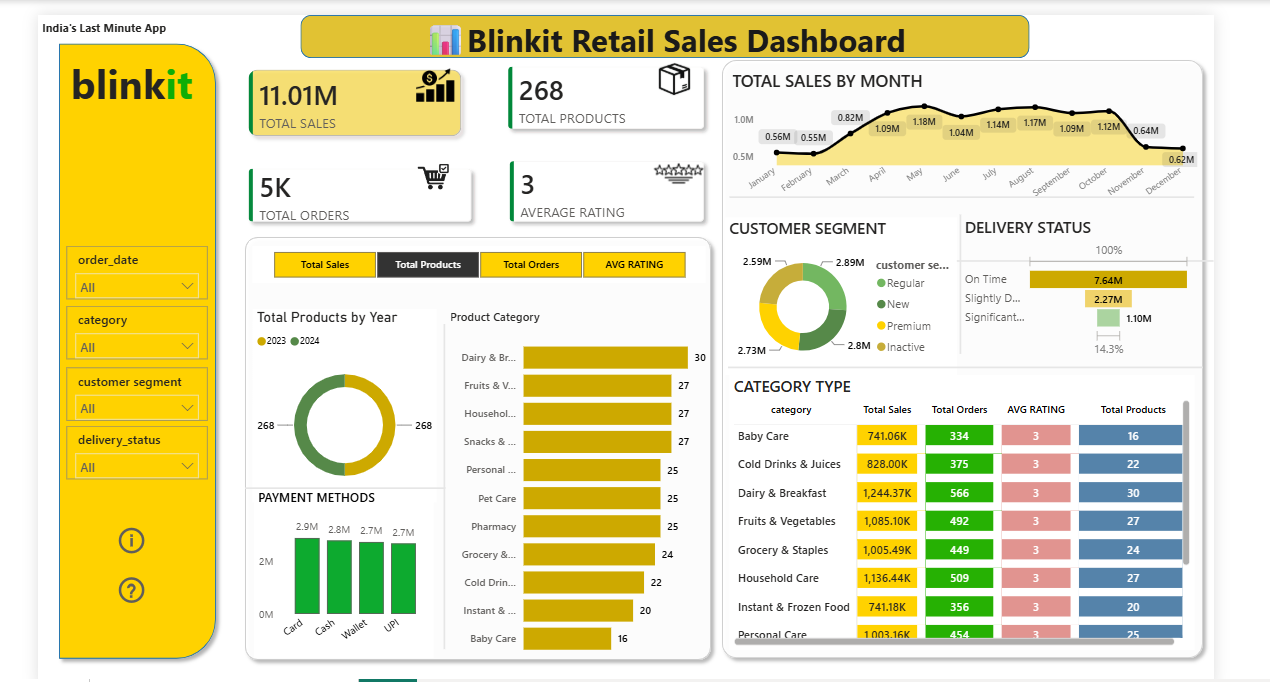

This screenshot's page, from the dashboard's own definition file:
{"tool":"powerbi","page":{"name":"Dashboard","canvas":[1400,800],"ordinal":0},"visuals":[{"type":"shape","box":[16.5,24.8,204.6,750.3],"z":0},{"type":"textbox","box":[33.1,43.4,159.2,80.6],"z":1000},{"type":"textbox","box":[0,0,235.1,655.7],"z":2000},{"type":"cardVisual","fields":{"Data":["blinkit_orders.Total Sales"]},"box":[220.9,35.3,311.1,137.9],"z":3000},{"type":"cardVisual","fields":{"Data":["blinkit_orders.Orders"]},"box":[220.9,153.8,323.4,121.9],"z":4000},{"type":"cardVisual","fields":{"Data":["blinkit_products.Total Products"]},"box":[530.2,31.8,291.6,132.6],"z":5000},{"type":"cardVisual","fields":{"Data":["blinkit_customer_feedback.Average Rating"]},"box":[532,144.9,289.8,130.8],"z":6000},{"type":"image","box":[440.1,51.3,67.2,63.6],"z":7000},{"type":"image","box":[715.8,152,93.7,76],"z":8000},{"type":"image","box":[721.1,51.3,79.5,53],"z":9000},{"type":"image","box":[404.7,152,100.7,72.5],"z":10000},{"type":"shape","box":[236.8,254.5,572.6,521.4],"z":11000},{"type":"donutChart","fields":{"Y":["blinkit_products.Total Products"],"Category":["blinkit_orders.order_date.Variation.Date Hierarchy.Year"]},"box":[254.5,349.9,219.2,229.8],"z":12000},{"type":"slicer","fields":{"Values":["metric.metric"]},"box":[254.5,275.7,539,44.2],"z":13000},{"type":"shape","box":[245.7,553.2,238.6,19.4],"z":14000},{"type":"shape","box":[473.6,367.6,21.2,387],"z":15000},{"type":"barChart","title":"Product Category","fields":{"Y":["blinkit_products.Total Products"],"Category":["blinkit_products.category"]},"box":[486,349.9,314.6,424.2],"z":16000},{"type":"shape","box":[805.9,44.2,590.3,729.9],"z":17000},{"type":"lineChart","title":"TOTAL SALES BY MONTH","fields":{"Y":["blinkit_orders.Total Sales"],"Category":["blinkit_orders.order_date.Variation.Date Hierarchy.Month"]},"box":[821.8,63.6,563.8,164.4],"z":18000},{"type":"shape","box":[821.8,288.1,577.9,10.6],"z":19000},{"type":"donutChart","title":"CUSTOMER SEGMENT","fields":{"Category":["blinkit_customers.customer_segment"],"Y":["blinkit_orders.Total Sales"]},"box":[818.3,240.4,275.7,187.3],"z":20000},{"type":"shape","box":[1090.5,236.8,14.1,166.1],"z":21000},{"type":"funnel","title":"DELIVERY STATUS","fields":{"Y":["blinkit_orders.Total Sales"],"Category":["blinkit_delivery_performance.delivery_status"]},"box":[1097.5,238.6,279.2,171.4],"z":22000},{"type":"shape","box":[821.8,410,565.6,17.7],"z":23000},{"type":"pivotTable","title":"CATEGORY TYPE","fields":{"Rows":["blinkit_products.category"],"Values":["blinkit_orders.Total Sales","blinkit_orders.Total Orders","blinkit_customer_feedback.AVG RATING","blinkit_products.Total Products"]},"box":[823.6,427.7,553.2,327],"z":24000},{"type":"shape","box":[823.6,205,553.2,23],"z":25000},{"type":"slicer","fields":{"Values":["blinkit_customers.customer_segment"]},"box":[33.6,418.9,167.9,63.6],"z":26000},{"type":"slicer","fields":{"Values":["blinkit_delivery_performance.delivery_status"]},"box":[33.6,489.6,167.9,63.6],"z":27000},{"type":"slicer","fields":{"Values":["blinkit_orders.order_date"]},"box":[33.6,275.7,167.9,63.6],"z":28000},{"type":"slicer","fields":{"Values":["blinkit_products.category"]},"box":[33.6,346.4,167.9,63.6],"z":29000},{"type":"columnChart","title":"PAYMENT METHODS","fields":{"Category":["blinkit_orders.payment_method"],"Y":["blinkit_orders.Total Sales"]},"box":[256.3,563.8,213.8,201.5],"z":30000},{"type":"actionButton","box":[91.9,606.2,100.7,40.6],"z":31000},{"type":"actionButton","box":[91.9,664.5,100.7,40.6],"z":32000},{"type":"shape","box":[312.8,0,867.8,51.3],"z":33000}]}

Visuals, with their boxes on the page's 1400x800 design canvas (x1, y1, x2, y2). These are canvas units, not pixel positions in the 1270x682 screenshot, which may show the page scaled, cropped or inside an application window:
shape: select_region(16, 25, 221, 775)
textbox: select_region(33, 43, 192, 124)
textbox: select_region(0, 0, 235, 656)
cardVisual - blinkit_orders.Total Sales: select_region(221, 35, 532, 173)
cardVisual - blinkit_orders.Orders: select_region(221, 154, 544, 276)
cardVisual - blinkit_products.Total Products: select_region(530, 32, 822, 164)
cardVisual - blinkit_customer_feedback.Average Rating: select_region(532, 145, 822, 276)
image: select_region(440, 51, 507, 115)
image: select_region(716, 152, 810, 228)
image: select_region(721, 51, 801, 104)
image: select_region(405, 152, 505, 224)
shape: select_region(237, 254, 809, 776)
donutChart - blinkit_products.Total Products x blinkit_orders.order_date.Variation.Date Hierarchy.Year: select_region(254, 350, 474, 580)
slicer - metric.metric: select_region(254, 276, 794, 320)
shape: select_region(246, 553, 484, 573)
shape: select_region(474, 368, 495, 755)
"Product Category" barChart: select_region(486, 350, 801, 774)
shape: select_region(806, 44, 1396, 774)
"TOTAL SALES BY MONTH" lineChart: select_region(822, 64, 1386, 228)
shape: select_region(822, 288, 1400, 299)
"CUSTOMER SEGMENT" donutChart: select_region(818, 240, 1094, 428)
shape: select_region(1090, 237, 1105, 403)
"DELIVERY STATUS" funnel: select_region(1098, 239, 1377, 410)
shape: select_region(822, 410, 1387, 428)
"CATEGORY TYPE" pivotTable: select_region(824, 428, 1377, 755)
shape: select_region(824, 205, 1377, 228)
slicer - blinkit_customers.customer_segment: select_region(34, 419, 202, 482)
slicer - blinkit_delivery_performance.delivery_status: select_region(34, 490, 202, 553)
slicer - blinkit_orders.order_date: select_region(34, 276, 202, 339)
slicer - blinkit_products.category: select_region(34, 346, 202, 410)
"PAYMENT METHODS" columnChart: select_region(256, 564, 470, 765)
actionButton: select_region(92, 606, 193, 647)
actionButton: select_region(92, 664, 193, 705)
shape: select_region(313, 0, 1181, 51)
